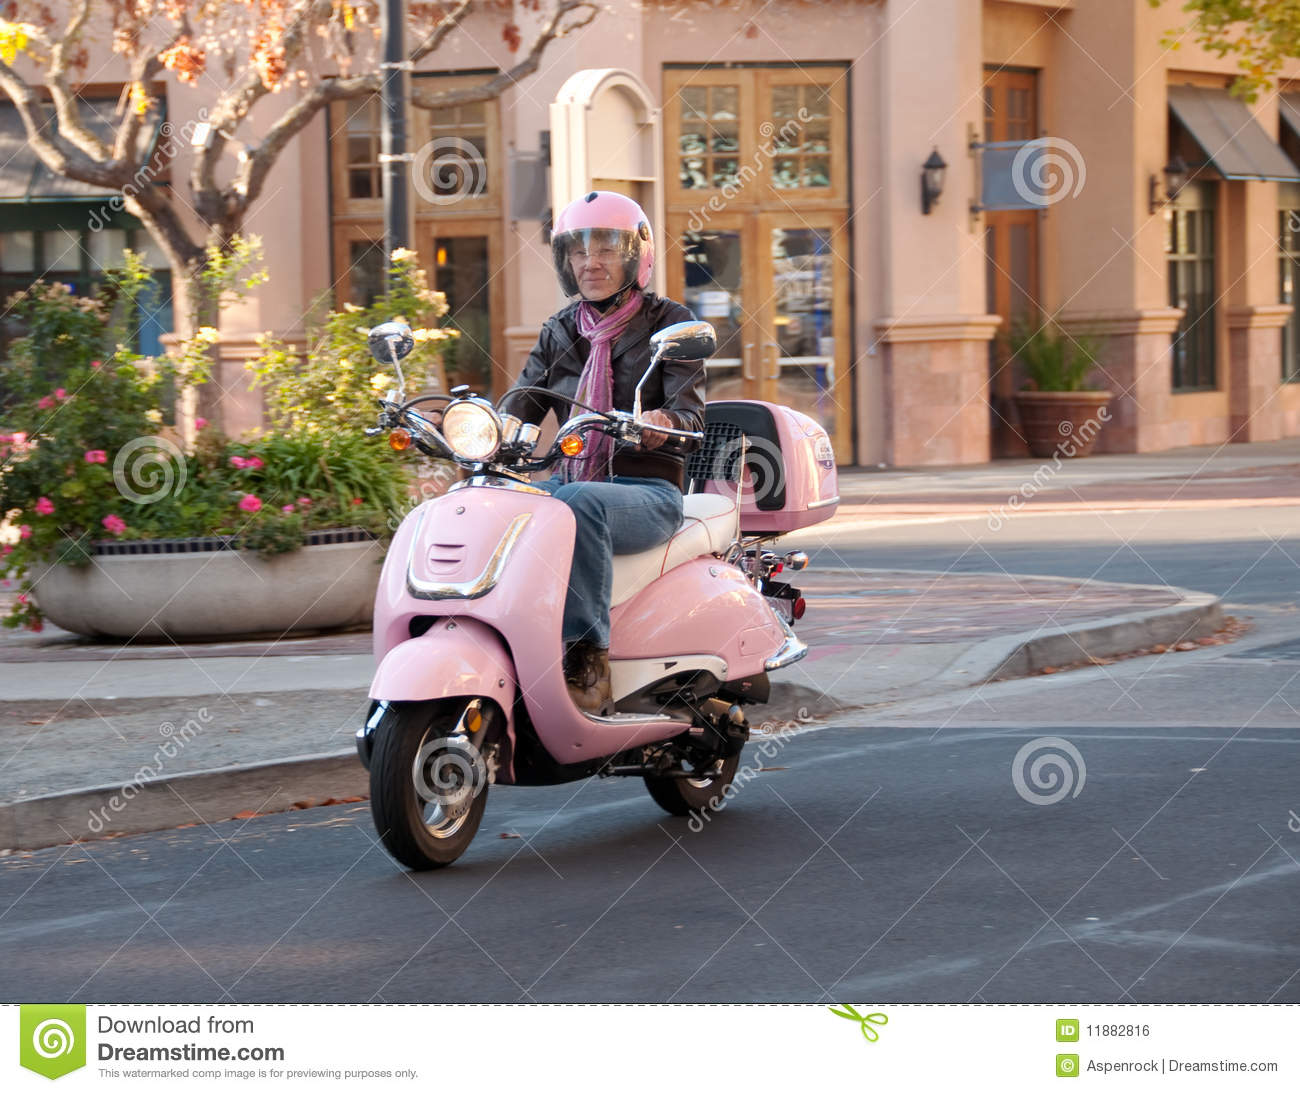helmet: (553, 195, 655, 313)
